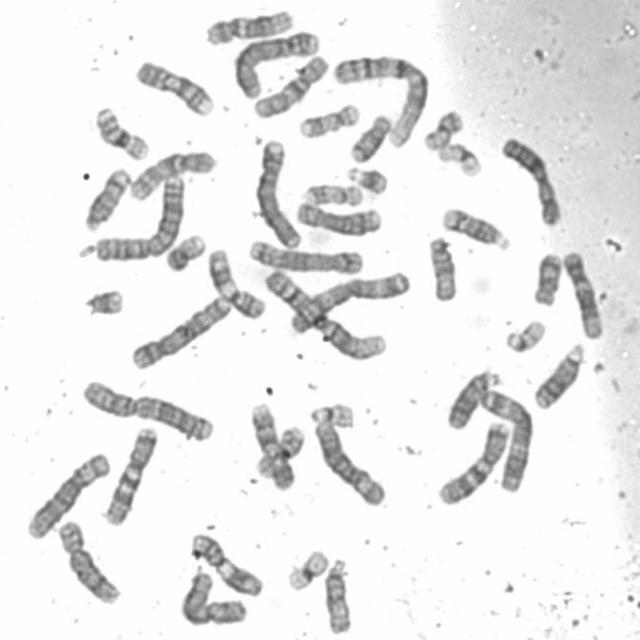A1: (260, 266, 389, 362), (330, 51, 431, 151)
A2: (88, 169, 186, 264), (78, 376, 215, 442)
A3: (284, 266, 413, 336), (477, 386, 534, 493)
B4: (230, 26, 322, 100), (252, 134, 304, 250)
B5: (127, 292, 234, 371), (244, 235, 364, 276)
C10: (249, 50, 332, 121), (126, 146, 218, 202)
C11: (187, 529, 264, 599), (204, 245, 267, 321)
C12: (560, 247, 604, 341), (202, 6, 294, 46)
C6: (22, 448, 112, 541), (311, 418, 388, 507)
C7: (432, 418, 512, 507), (100, 423, 159, 527)
C8: (55, 517, 122, 607), (292, 198, 383, 236)
C9: (130, 56, 216, 118), (250, 402, 296, 493)
D13: (530, 340, 586, 411), (443, 366, 504, 430)
D14: (438, 204, 512, 252), (80, 164, 132, 232)
D15: (321, 554, 353, 636), (425, 233, 459, 303)
E16: (92, 104, 152, 164), (252, 422, 305, 476)
E17: (294, 100, 362, 140), (298, 180, 366, 208)
E18: (346, 110, 392, 164), (529, 249, 563, 308)
F19: (282, 546, 331, 593), (434, 140, 484, 178)
F20: (421, 106, 466, 152), (160, 230, 207, 274)
G21: (81, 284, 126, 318), (344, 162, 389, 196)
G22: (501, 316, 547, 354), (306, 398, 356, 431)
X: (497, 132, 563, 227), (176, 568, 250, 627)
